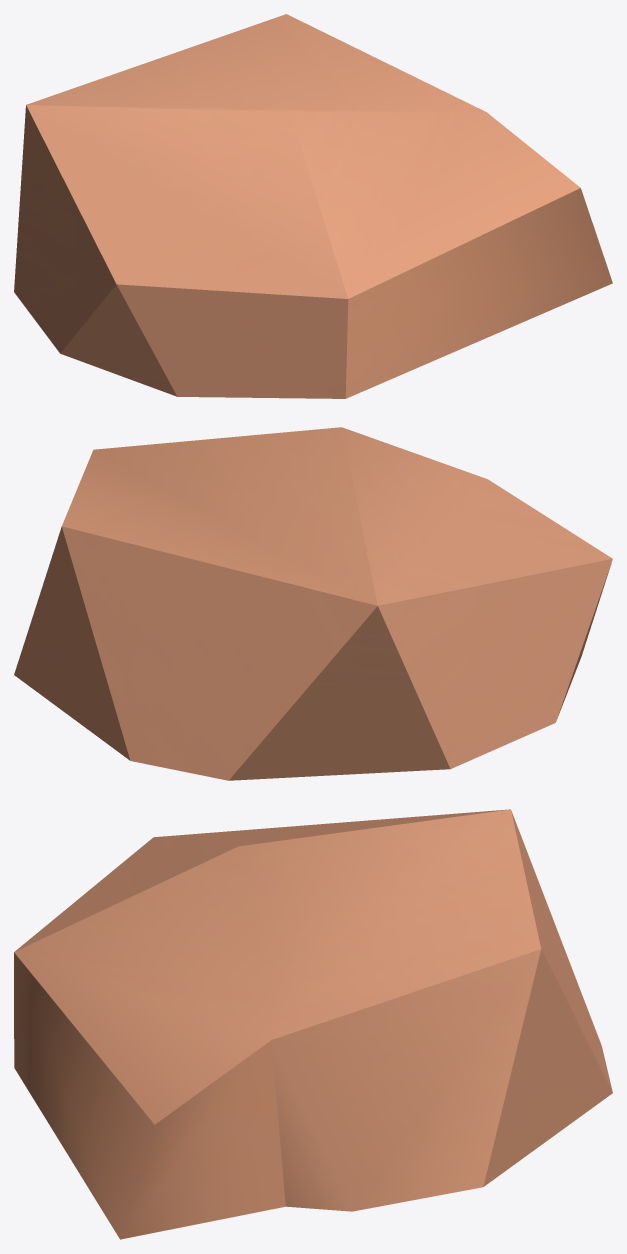
The model's file is Stone.fbx.
3 views of the same model, one above another, from view 1: azimuth 30°, elevation 25°; view 2: azimuth 150°, elevation 25°; view 3: azimuth 270°, elevation 25° (orthographic). The views are drawn at different scales.
Parts seen in each view (by area): view 1: Stone; view 2: Stone; view 3: Stone.
Part boxes in pixels (x1,y1,x2,y2): Stone: (14, 14, 612, 398); Stone: (14, 427, 612, 780); Stone: (14, 809, 612, 1239).
Size of the model in its own units: 0.4316 by 0.1764 by 0.3923.
